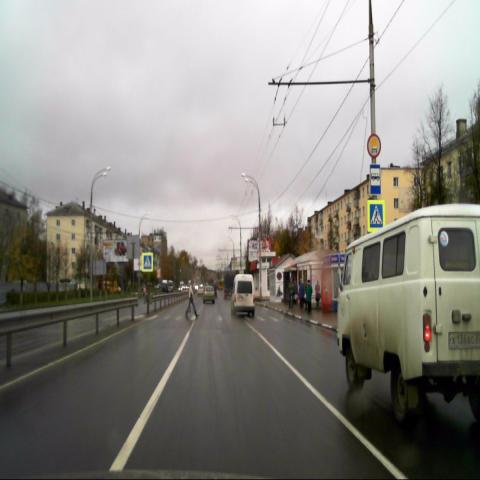3_32: (367, 134, 381, 158)
